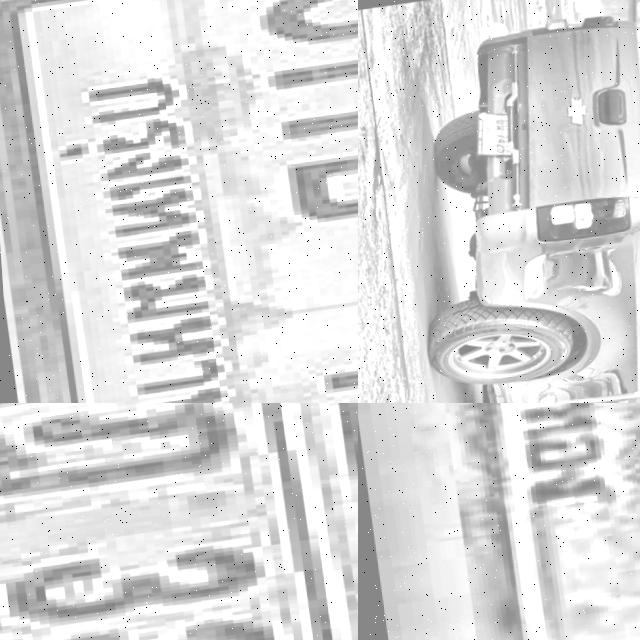license-plate: (0, 0, 358, 403), (0, 403, 358, 640), (402, 403, 640, 640), (463, 108, 517, 162)
